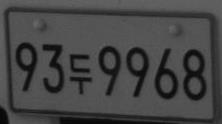3: (41, 43, 65, 93)
6: (153, 47, 179, 100)
8: (181, 47, 207, 101)
9: (124, 45, 150, 97), (97, 44, 122, 96), (14, 41, 38, 93)
두: (68, 53, 93, 94)
